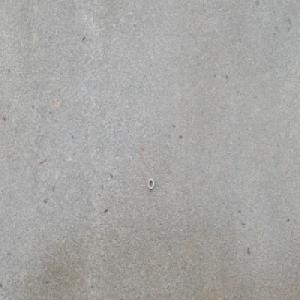Nut: (147, 178, 154, 190)
